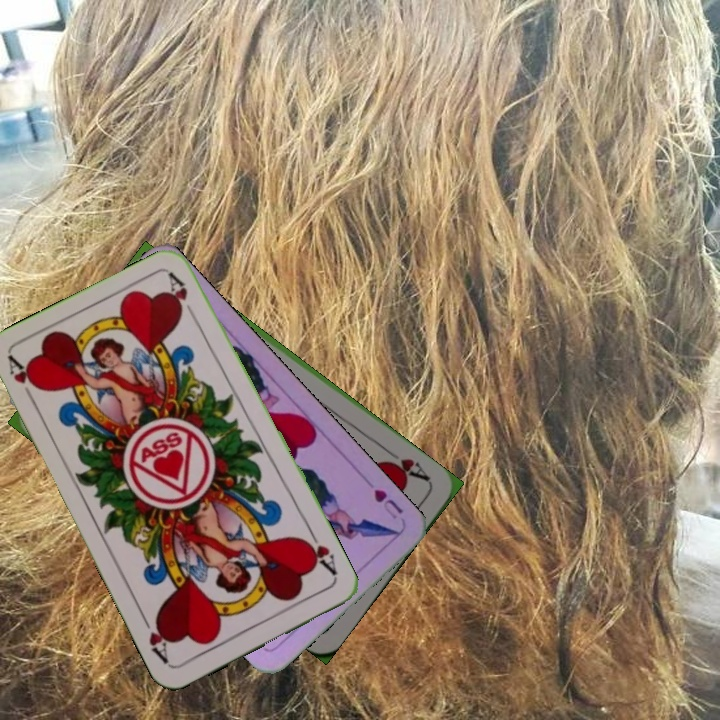HA: (297, 526, 340, 581), (4, 353, 43, 408), (380, 444, 433, 484)
HU: (369, 484, 406, 522)
